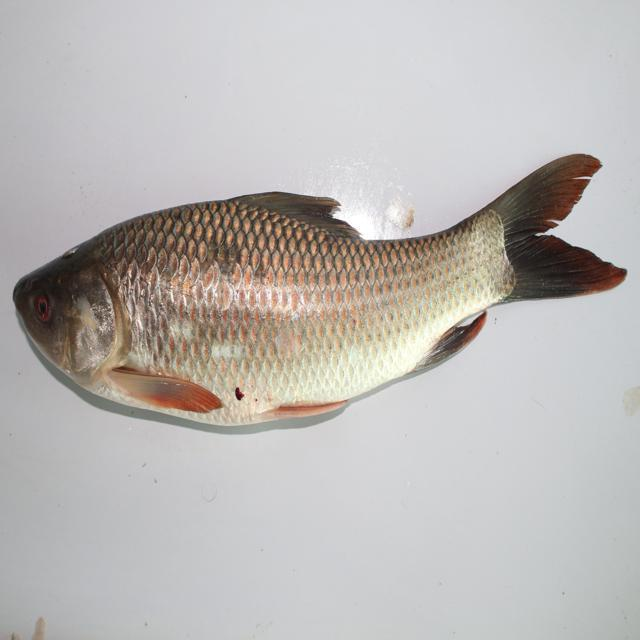Rohu: (9, 143, 634, 442)
